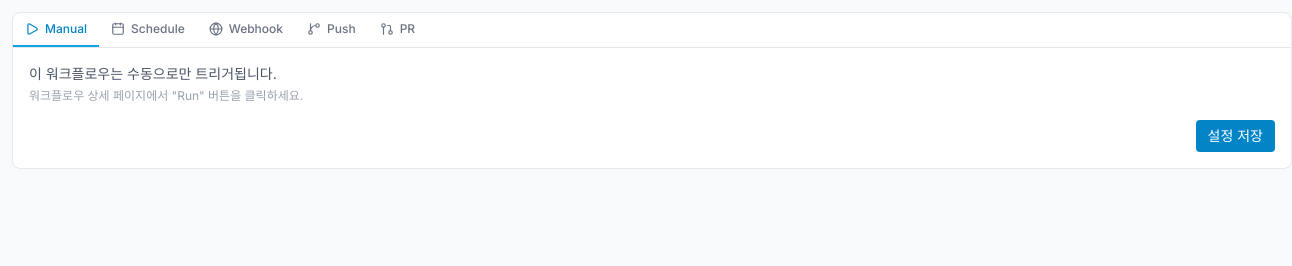
TriggerConfigPanel › shows branches input on push tab click
Click the button "Push": (331, 30) top-left (295, 13), bottom-right (368, 47)
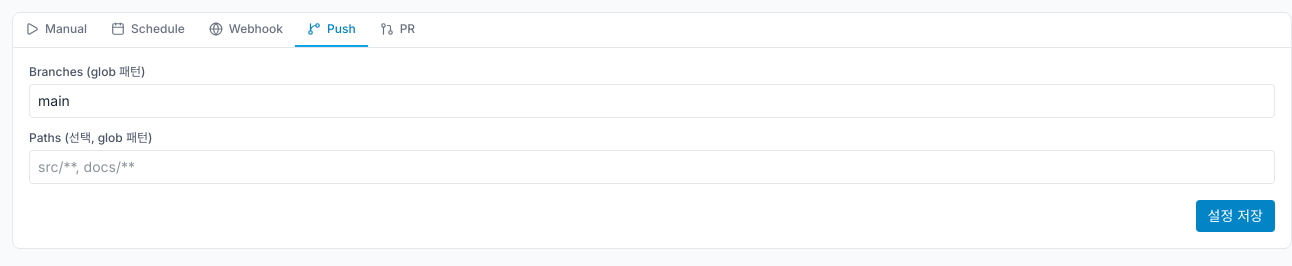
Check: the text "Branches (glob 패턴)" is shown, box top-left (29, 64), bottom-right (146, 79)
Check: the text "Paths (선택, glob 패턴)" is shown, box top-left (29, 130), bottom-right (152, 145)
